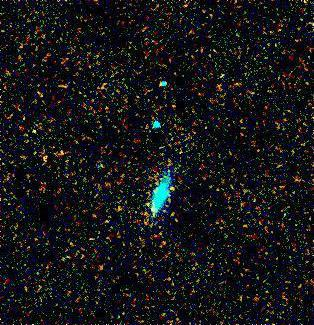star: (157, 174, 187, 204)
